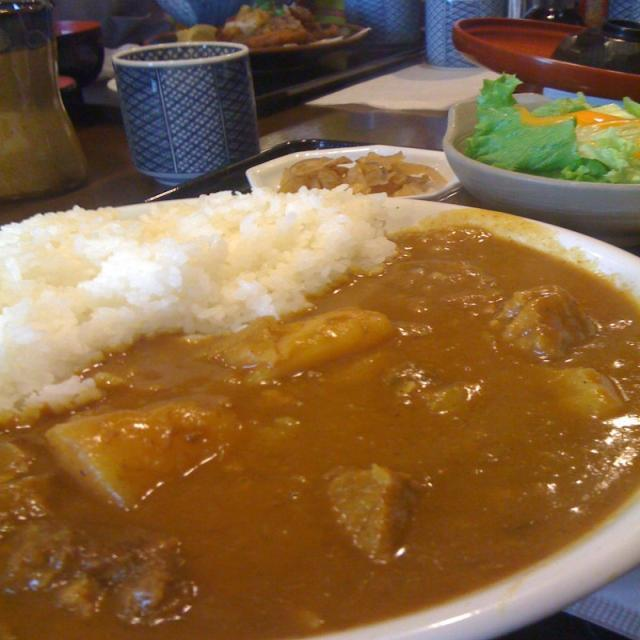Beef Curry: (2, 256, 640, 640)
